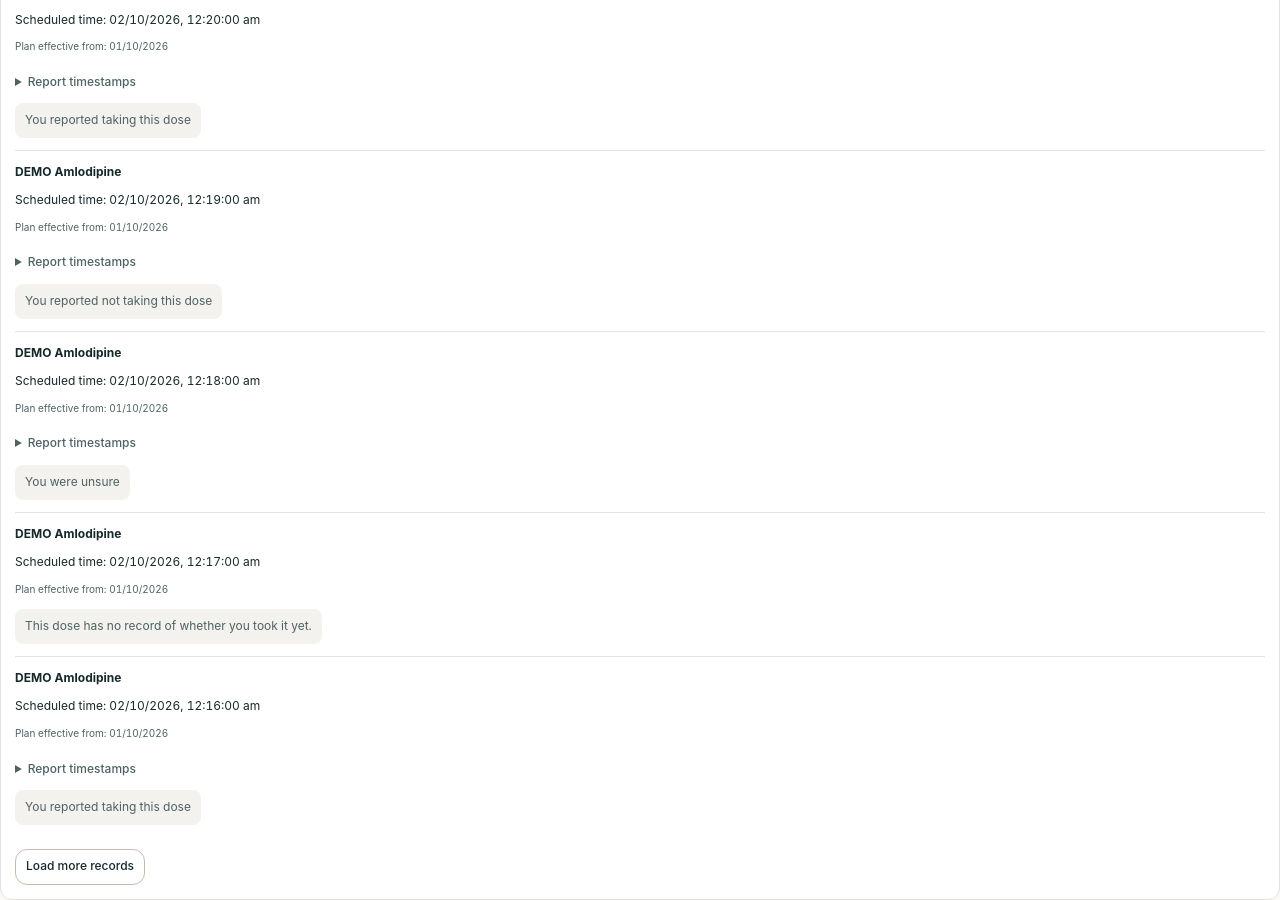
Test: groups equal names while preserving registrations, scopes plans and resets pagination while ignoring stale queries
The width and height of the screenshot is (1280, 900).
(page scrolled)
Step 1. Click the button "Load more records" → (80, 867), box [15,849,145,885]
(page scrolled)
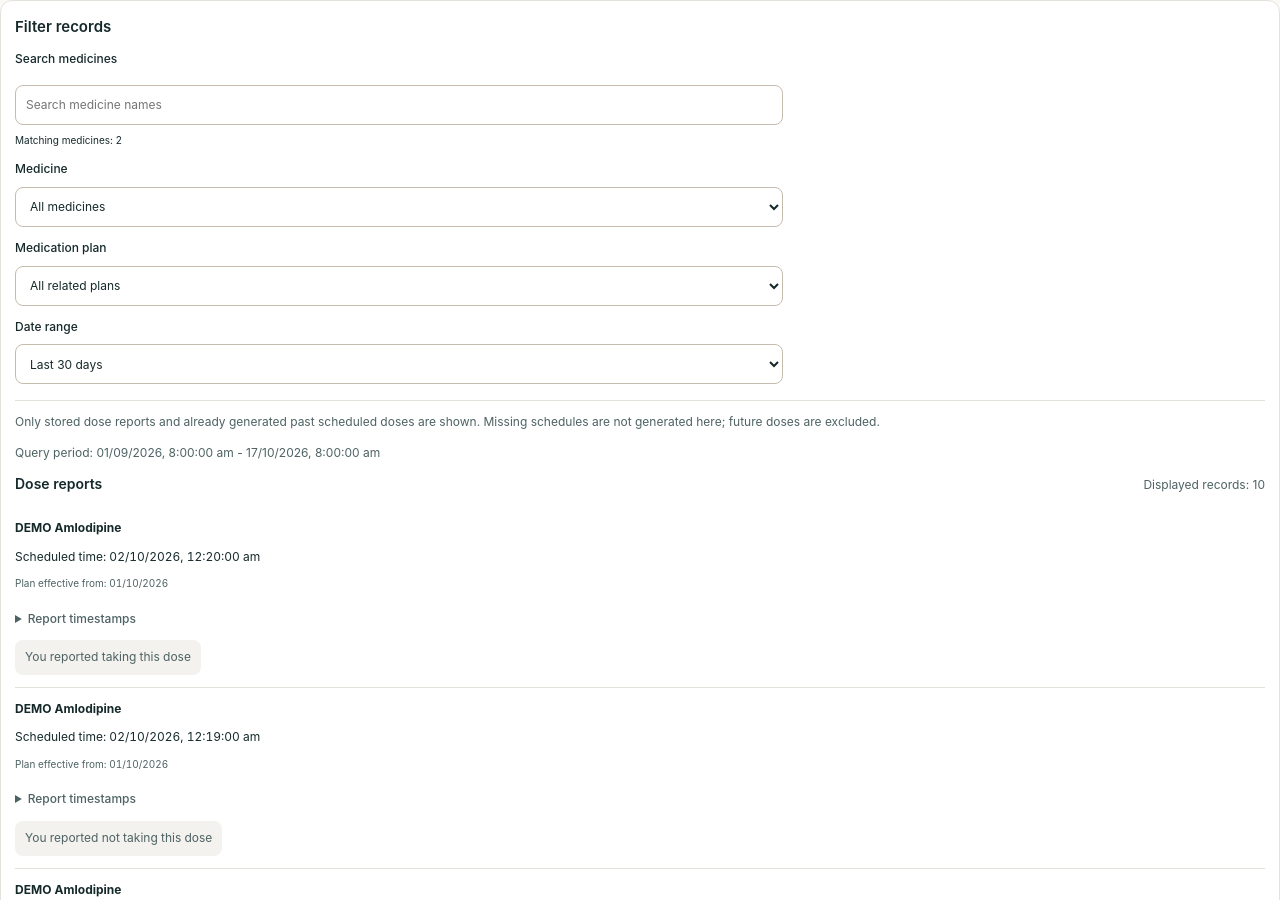
Expected: the number of list items is 10
Step 2. Select "Last 7 days" in the dropdown labelled "Date range" → (399, 364), box [15,344,783,384]
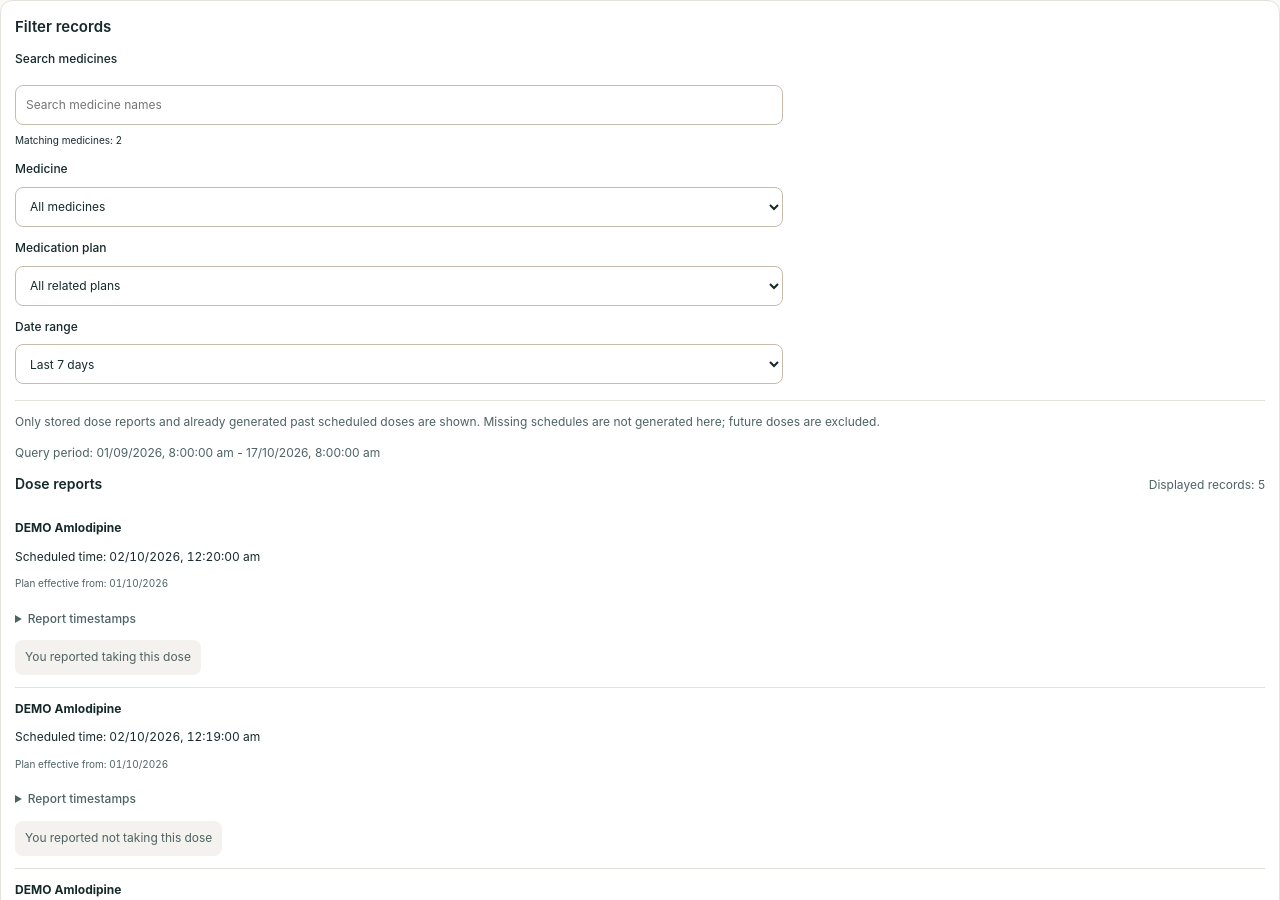
Expected: the text "Displayed records: 5" is shown, [1149,476,1265,495]
Step 3. Select "DEMO Amlodipine" in the dropdown labelled "Medicine" → (399, 207), box [15,187,783,227]
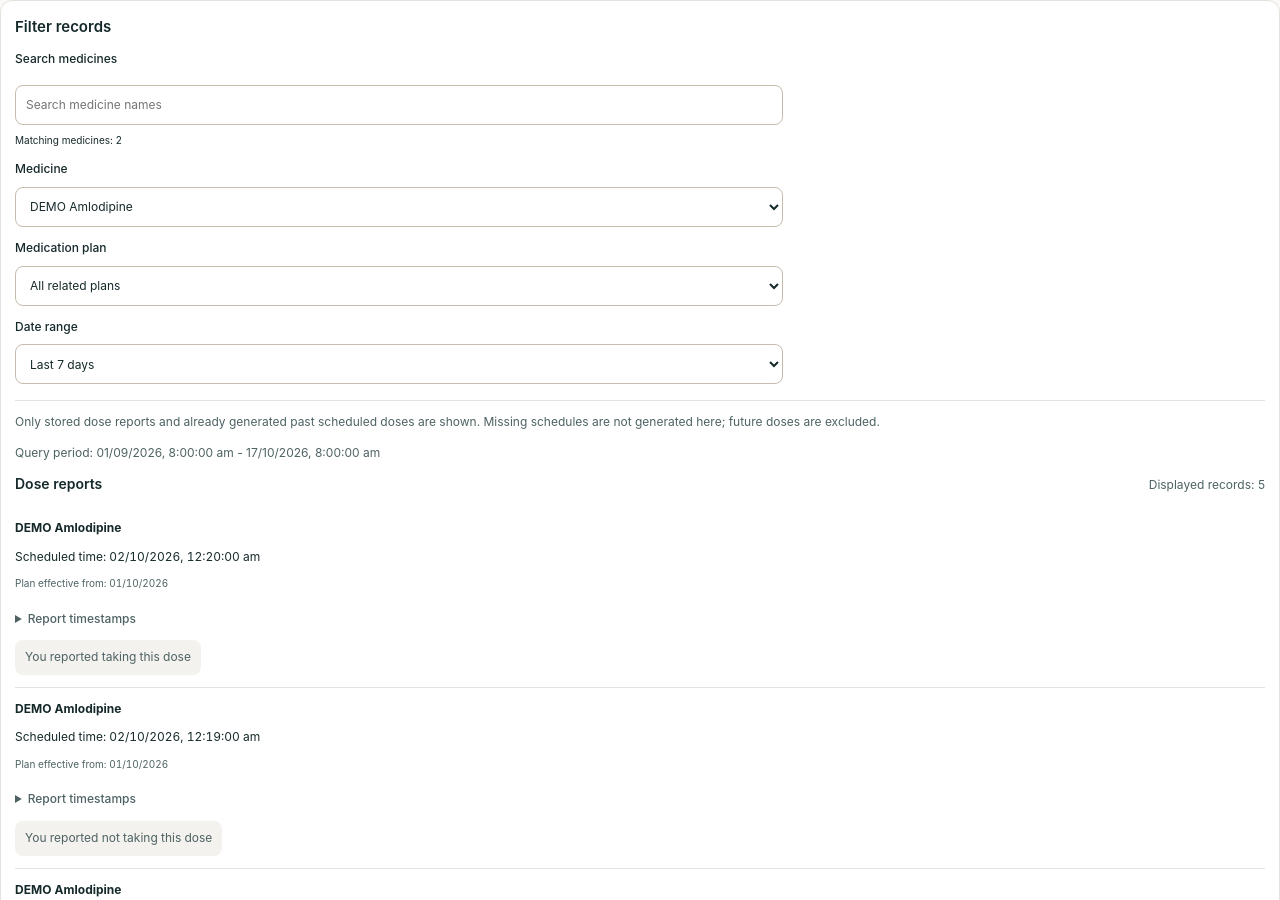
Expected: the text "Displayed records: 5" is shown, [1149,476,1265,495]
Step 4. Select "Recorded strength: 5 mg · Per dose: 1 tablet · Frequency not recorded · Effectiv" in the dropdown labelled "Medication plan" → (399, 286), box [15,266,783,306]
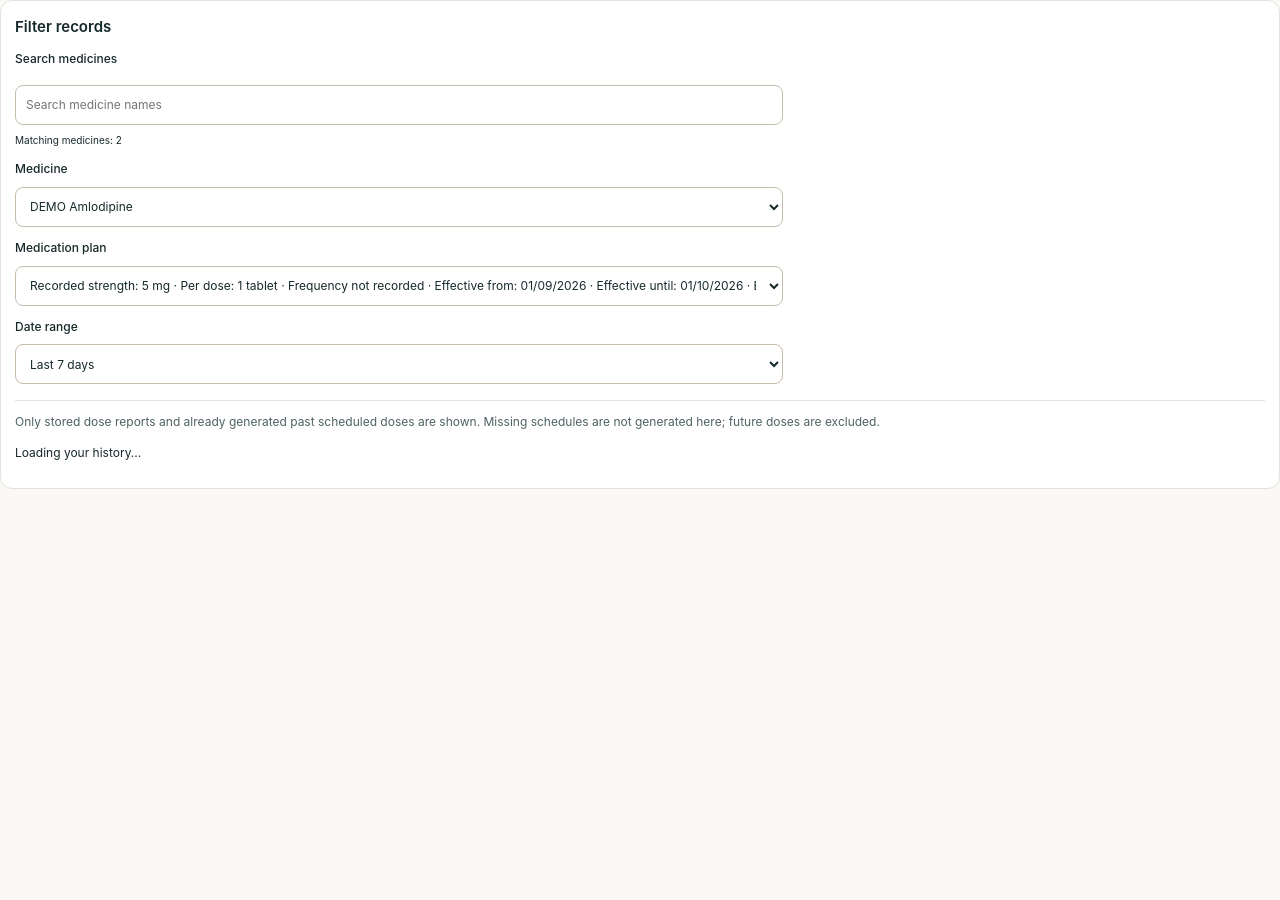
Expected: no list items are shown
Step 5. Select "DEMO Metformin" in the dropdown labelled "Medicine" → (399, 207), box [15,187,783,227]
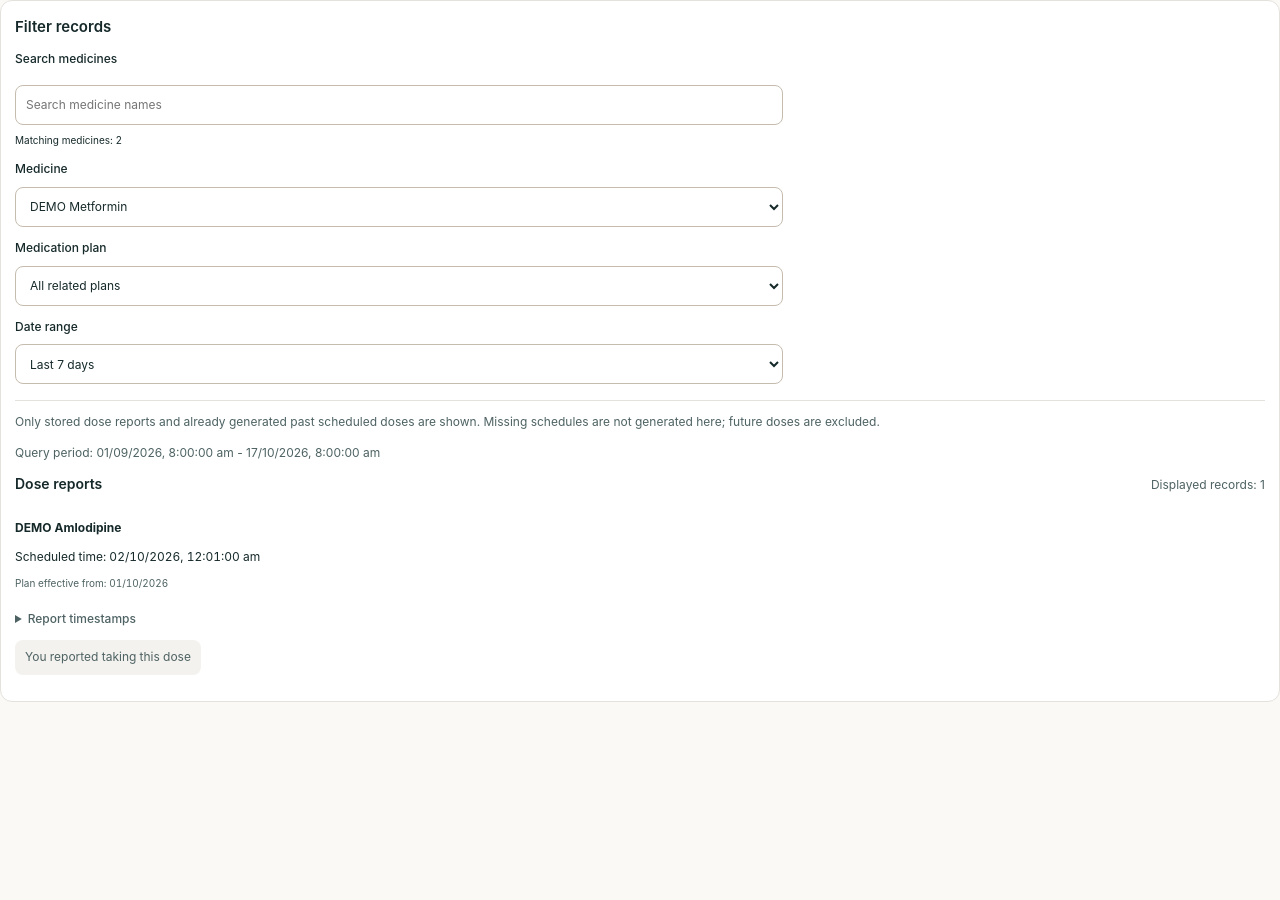
Expected: the text "Displayed records: 1" is shown, [1151,476,1265,495]
Expected: the number of list items is 1, [15,520,260,675]
